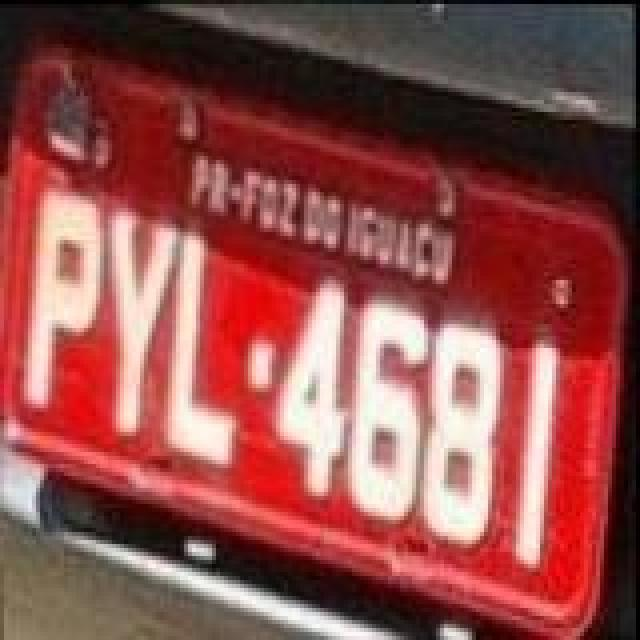1: (508, 338, 564, 574)
4: (270, 274, 354, 498)
6: (344, 298, 440, 526)
8: (420, 316, 508, 548)
L: (158, 230, 238, 474)
P: (18, 188, 106, 412)
Y: (104, 210, 180, 438)
